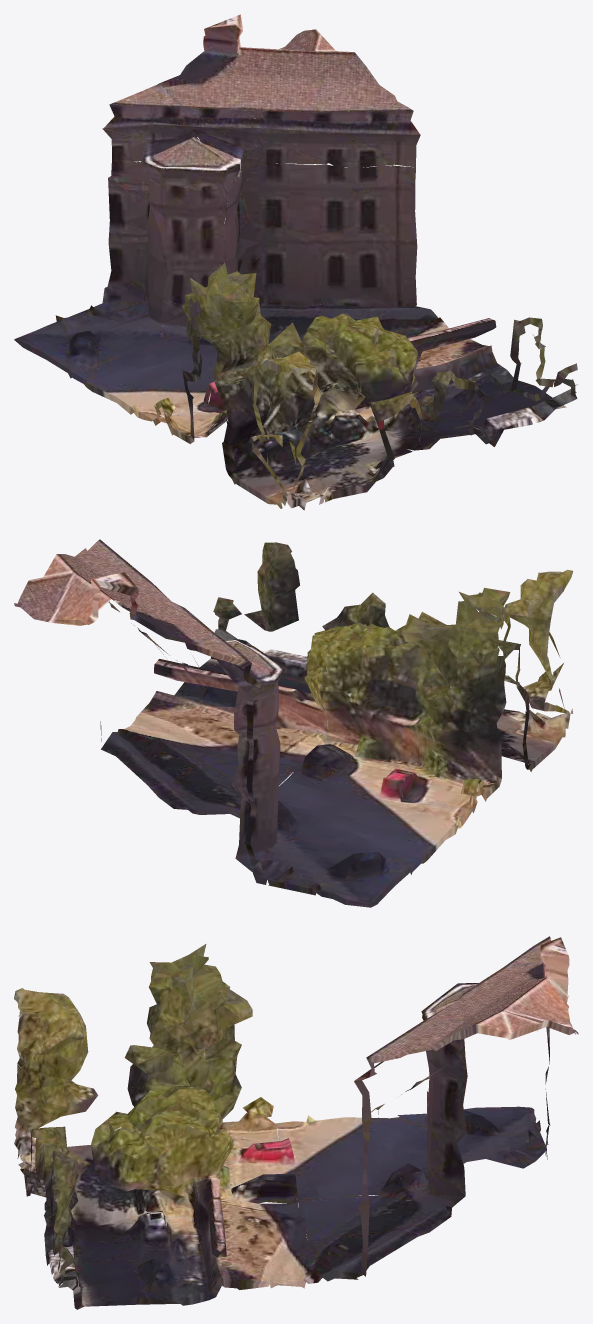
The picture shows the model from 3 angles, top to bottom: view 1: azimuth 30°, elevation 25°; view 2: azimuth 150°, elevation 25°; view 3: azimuth 270°, elevation 25°; orthographic projection. The views are drawn at different scales.
Visible parts, largest first — view 1: Mesh_0; view 2: Mesh_0; view 3: Mesh_0.
Boxes of the visible parts, x1,y1,x2,y2 form: Mesh_0: (14,14,577,510); Mesh_0: (14,539,572,907); Mesh_0: (14,936,578,1309).
Bounding box in the file's own units: 33.34 × 24.95 × 41.5.
2 materials, 2 textured.
